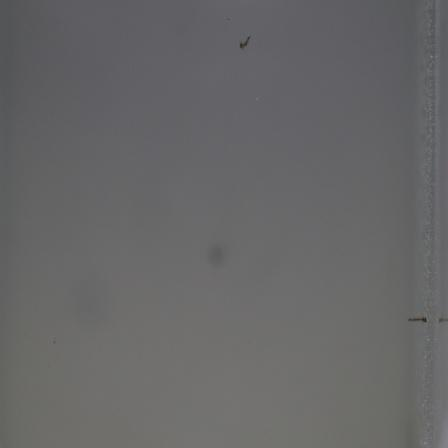Jentik-Nyamuk: (234, 31, 256, 55), (402, 311, 430, 329)
